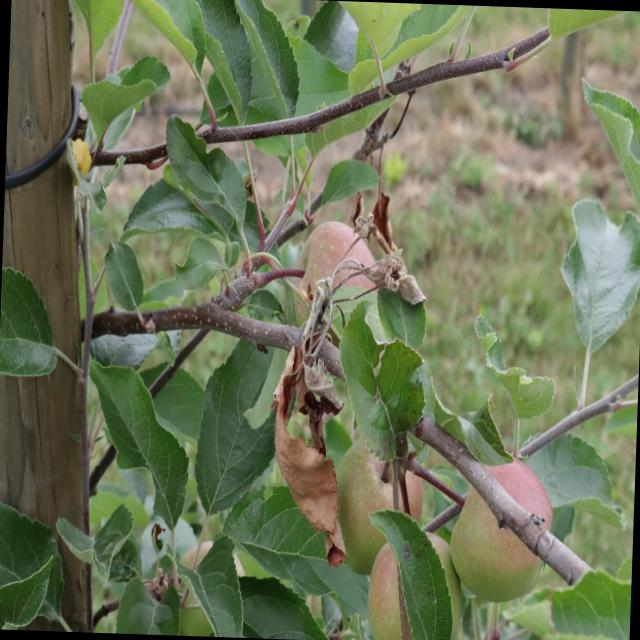-FireBlight-: (258, 342, 354, 562), (350, 244, 427, 314), (358, 180, 403, 250)
